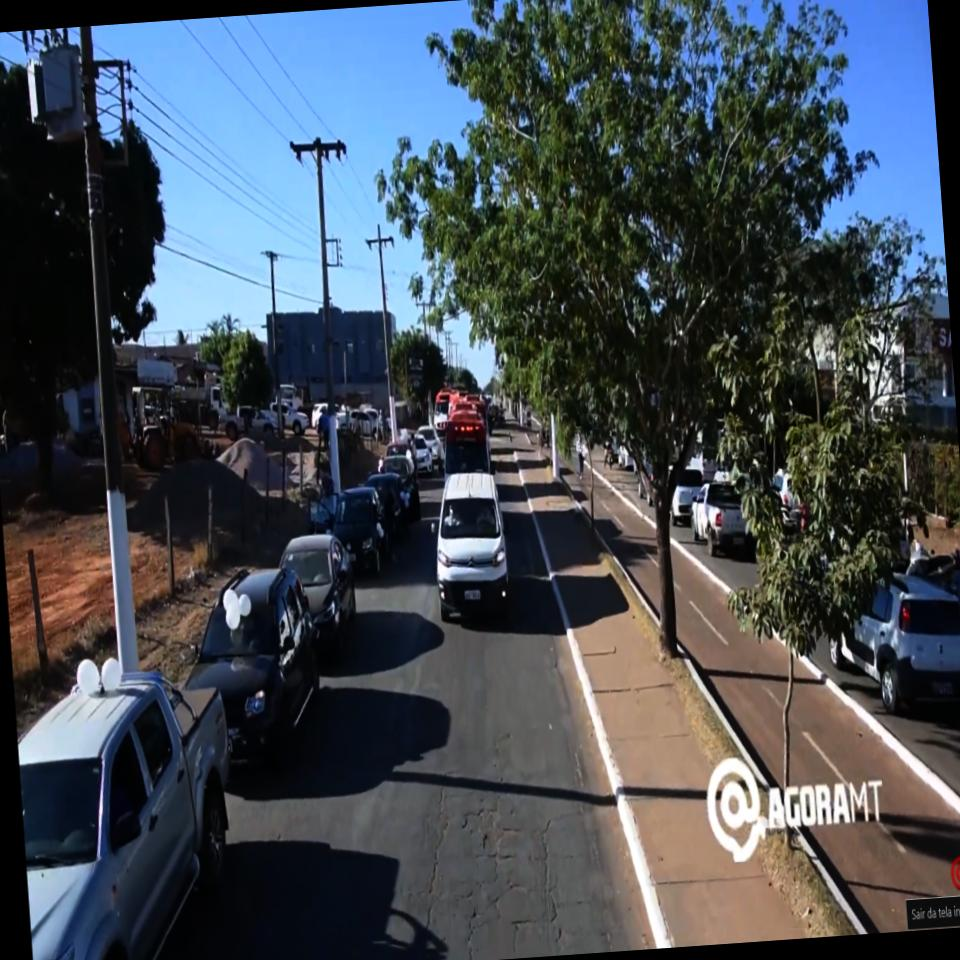bombeiro: (434, 401, 498, 479)
